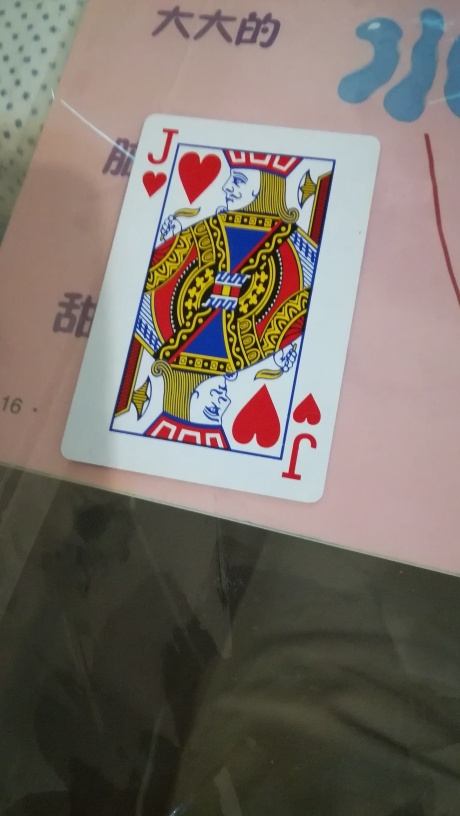hx j: (63, 111, 375, 504)
